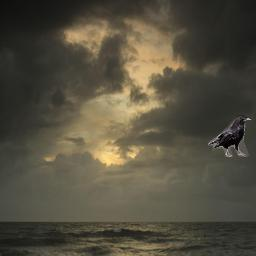Crow: (208, 115, 252, 157)
